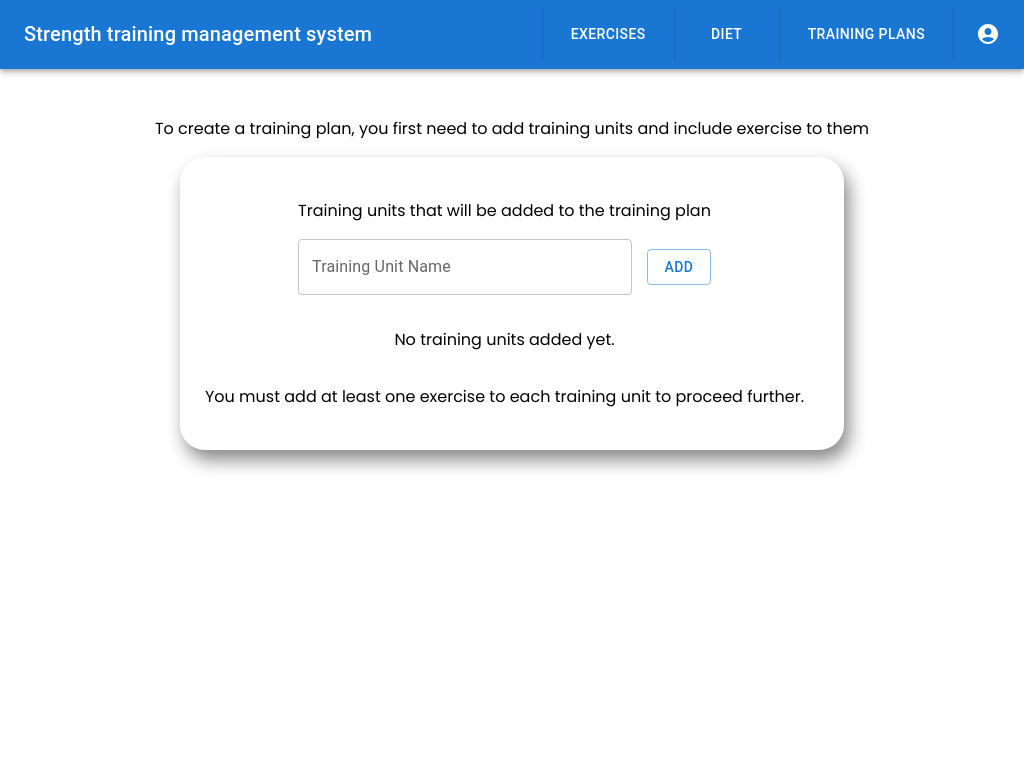
Test case: Training Plan Creator › should add a new training unit and display exercise fields
Type "Strength Training Unit" into the field with id "training-unit-name" at (465, 267), box [298,239,632,295]
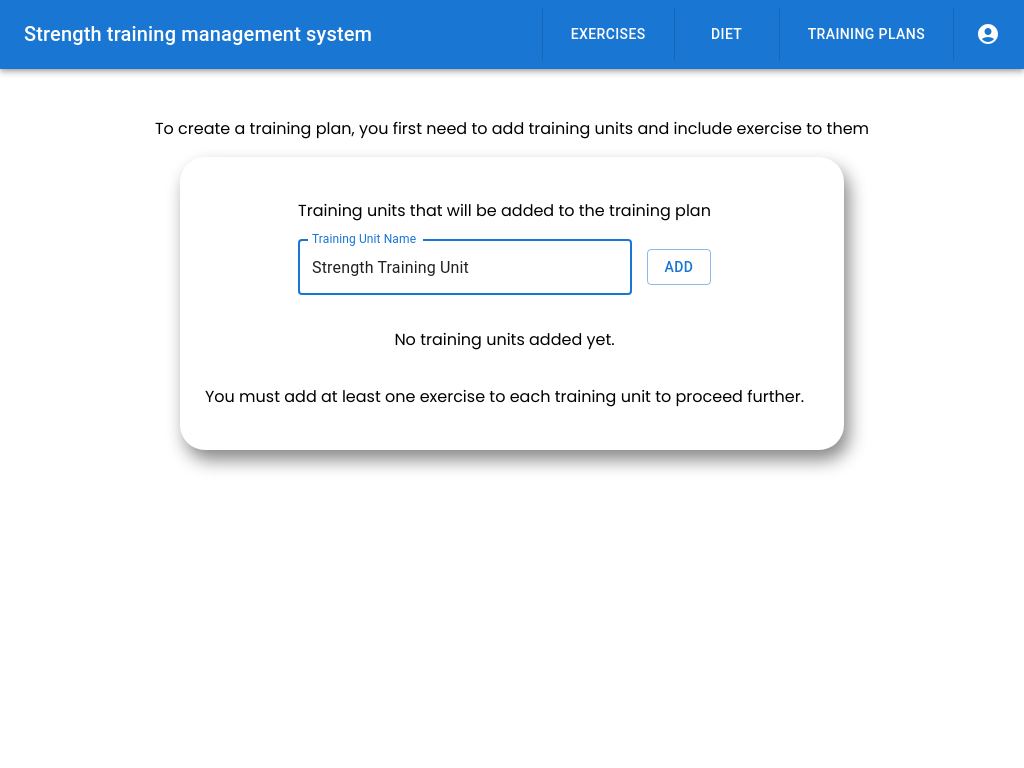
Click the button "Add" at (679, 268), box [647,249,711,286]
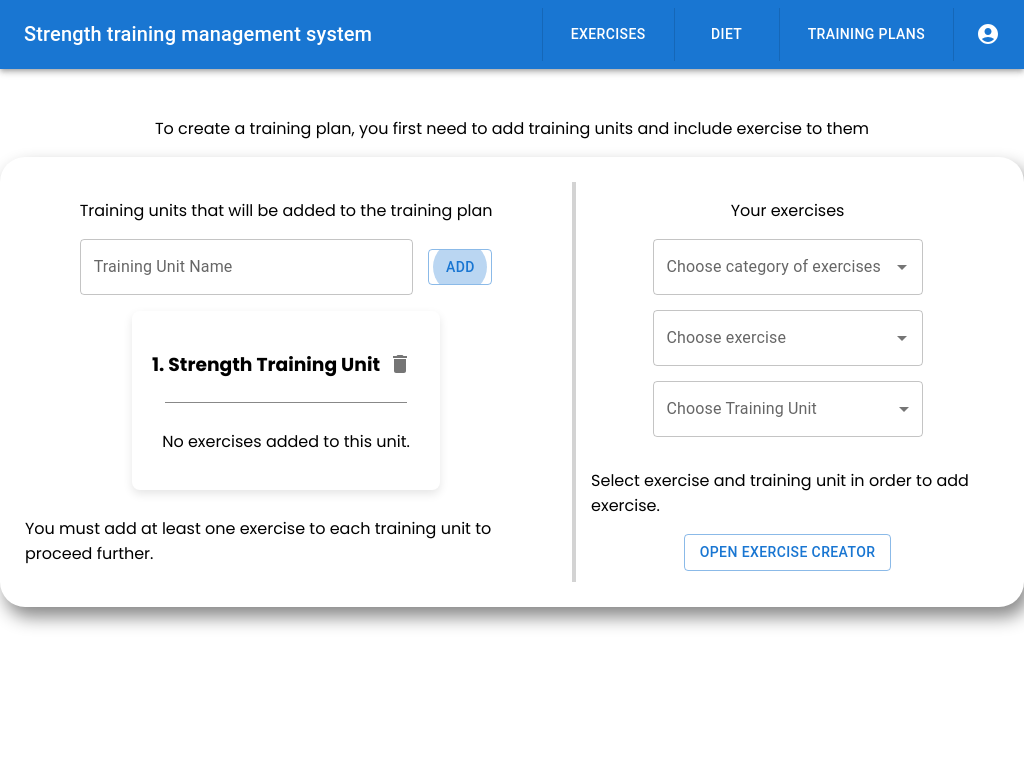
Result: the heading "1. Strength Training Unit" is shown at [152,350,380,379]
Result: the text "No exercises added to this unit." is shown at [162,429,410,454]
Result: the text "Your exercises" is shown at [731,198,844,223]
